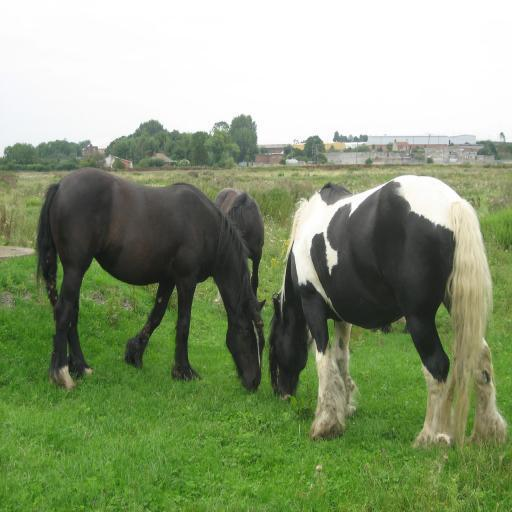horse: (266, 174, 508, 451), (32, 166, 268, 391), (210, 185, 266, 304)
